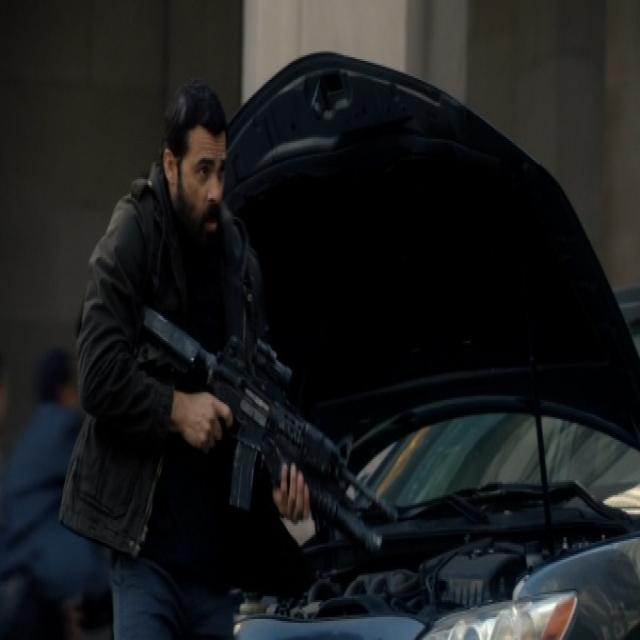rifle: (135, 303, 403, 547)
